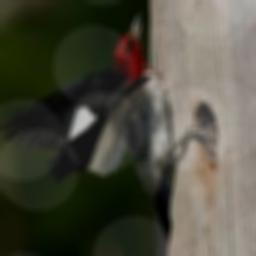Woodpecker: (3, 12, 215, 241)
